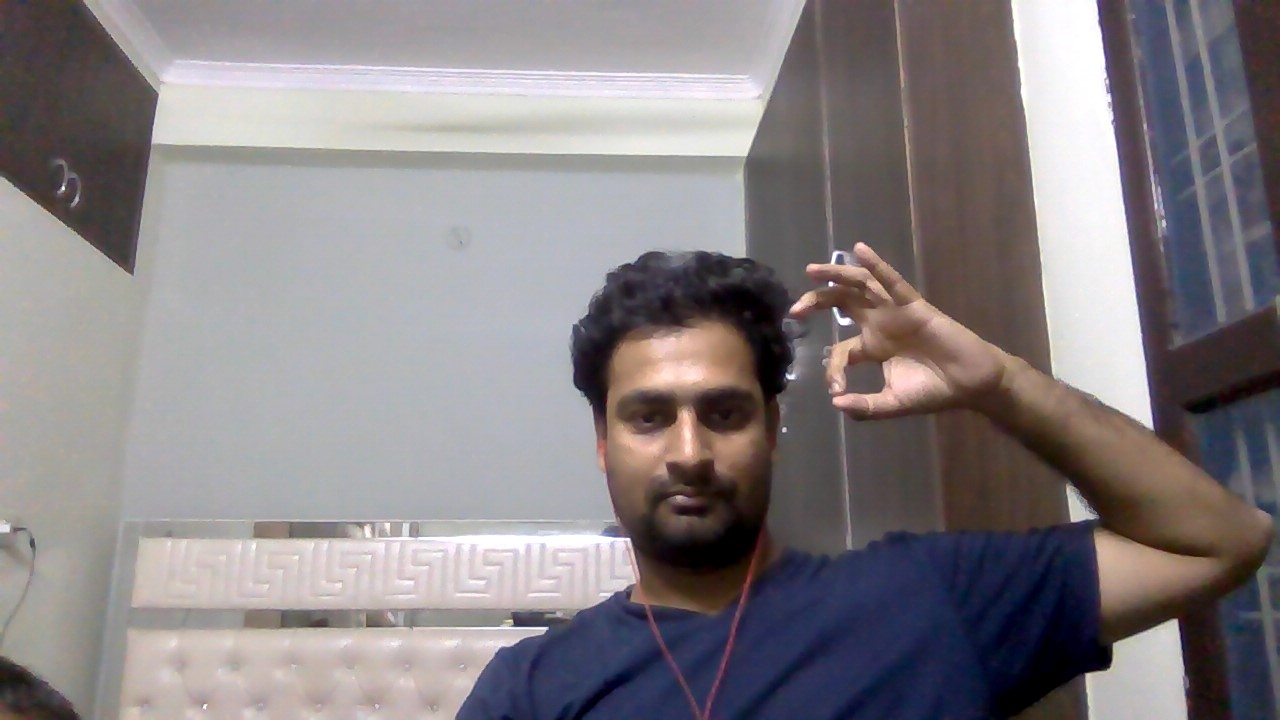Copy: (778, 238, 1008, 430)
